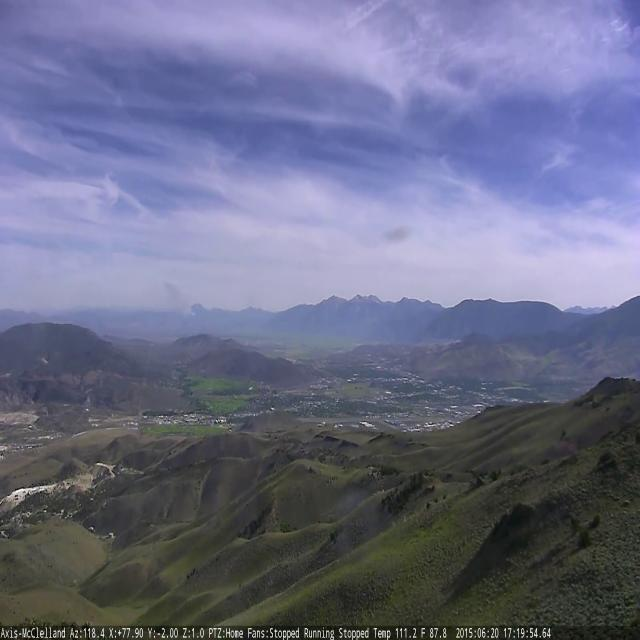smoke: (162, 281, 195, 316)
